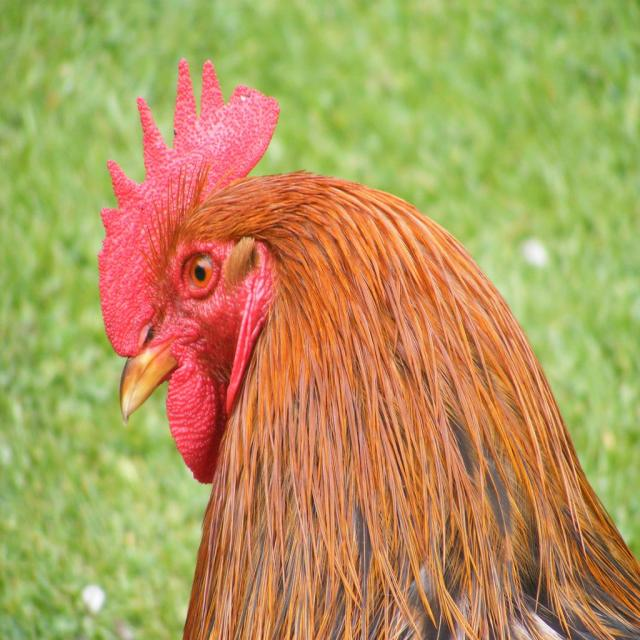Chicken: (97, 58, 640, 640)
